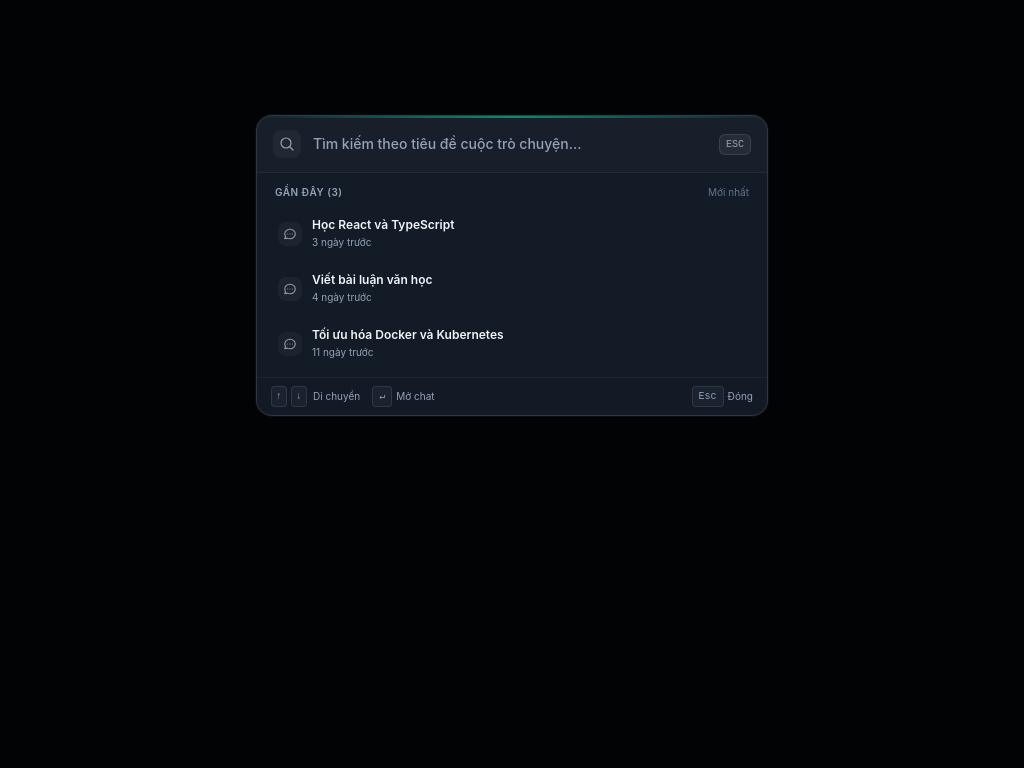
Test: SearchChatModal › should filter chats case-insensitively and trim whitespace
This screenshot has width=1024, height=768.
Type "   react   " into the field with placeholder "Tìm kiếm theo tiêu đề cuộc trò chuyện..." at (510, 144), box [301,134,719,154]
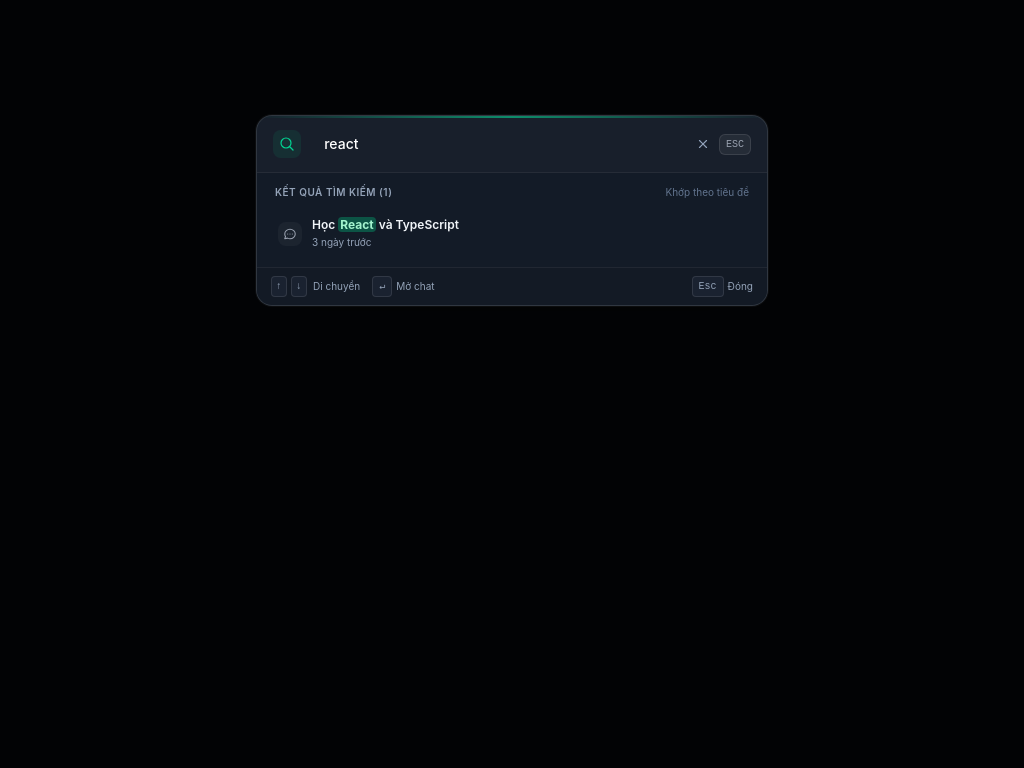
Expected: the text "React" is shown, [338,217,376,232]
Expected: the text "Kết quả tìm kiếm (1)" is shown, [275,185,392,200]
Expected: the button "Viết bài luận văn học" is gone
